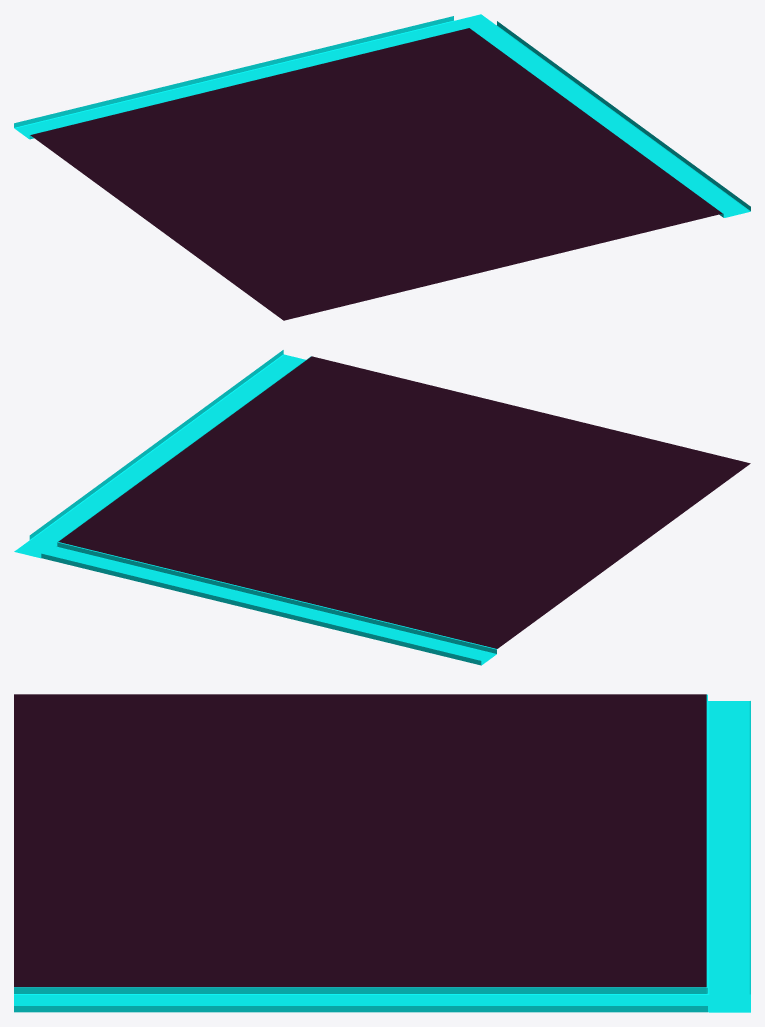
The model's file is floor.FBX.
3 renders of one model, top to bottom at view 1: azimuth 30°, elevation 25°; view 2: azimuth 150°, elevation 25°; view 3: azimuth 270°, elevation 25°, orthographic. The views are drawn at different scales.
Visible parts, largest first — view 1: Plane001; view 2: Plane001; view 3: Plane001.
Boxes of the visible parts, bbox=[...] form: Plane001: bbox=[14, 14, 750, 320]; Plane001: bbox=[14, 350, 750, 665]; Plane001: bbox=[14, 694, 750, 1012].
Bounding box in the file's own units: 497 × 5 × 497.
